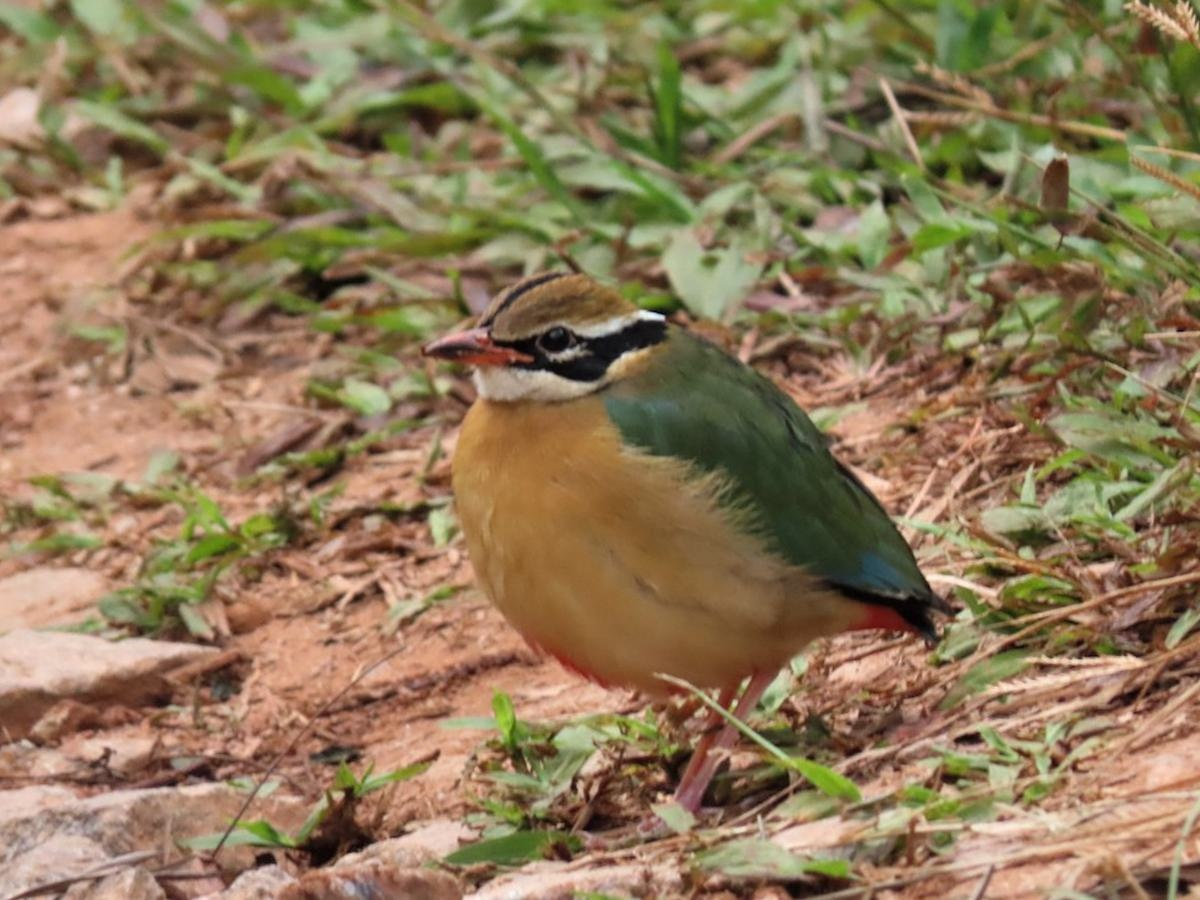pitta: (421, 251, 905, 798)
